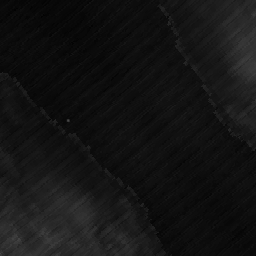Target: (65, 118, 71, 124)
